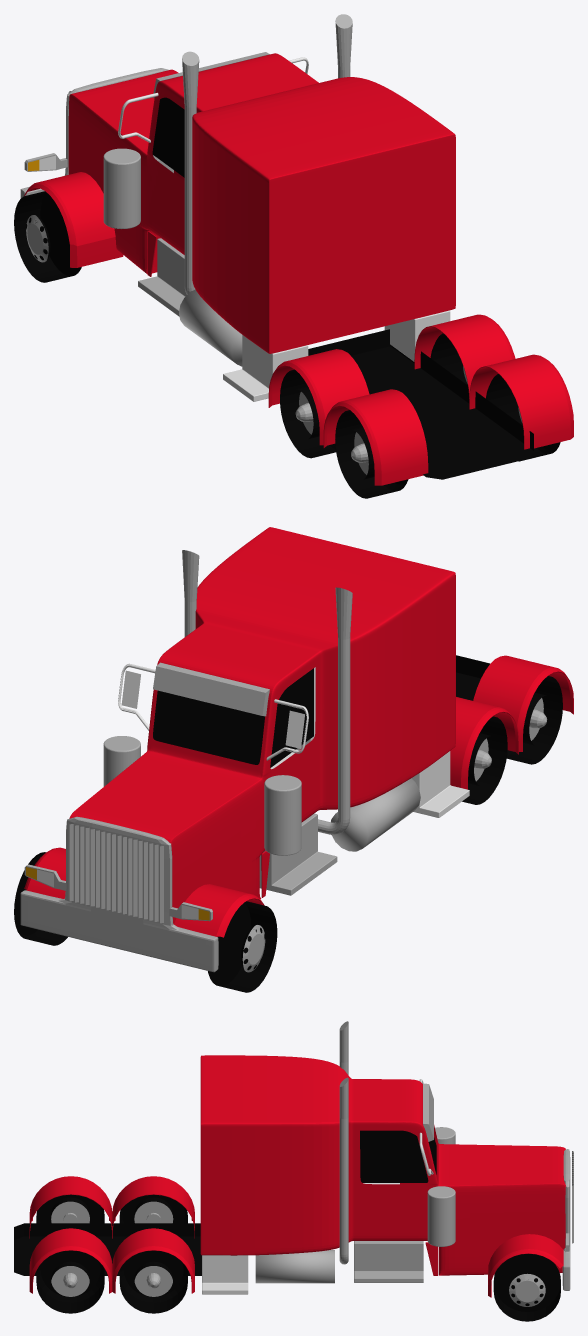
Rendered from oga_peterbilt389_luke1985__tractor_v0.2.glb.
3 views of the same model, one above another, from view 1: azimuth 30°, elevation 25°; view 2: azimuth 150°, elevation 25°; view 3: azimuth 270°, elevation 25° (orthographic). The views are drawn at different scales.
Visible parts, largest first — view 1: Cube, Circle.001, Plane.001, Circle.003, Circle, Circle.002, Cube.002, Cylinder, Plane.006, Cylinder.001, Cube.001, Plane.007 (+2 smaller); view 2: Cube, Plane, Plane.004, Circle.001, Circle.002, Plane.008, Circle.003, Cylinder, Plane.006, Plane.002, Circle, Cylinder.001 (+6 smaller); view 3: Cube, Circle.003, Circle.001, Circle.002, Plane.001, Plane.007, Cube.001, Cylinder.001, Cylinder, Plane.006, Cube.002, Circle (+2 smaller).
Boxes of the visible parts, x1,y1,x2,y2 form: Cube: (68, 53, 455, 353); Circle.001: (268, 314, 573, 485); Plane.001: (308, 329, 533, 479); Circle.003: (280, 333, 560, 498); Circle: (24, 172, 123, 267); Circle.002: (14, 191, 81, 282); Cube.002: (223, 310, 450, 401); Cylinder: (182, 14, 352, 294); Plane.006: (103, 148, 140, 228); Cylinder.001: (179, 289, 242, 366); Cube.001: (138, 238, 186, 316); Plane.007: (152, 97, 184, 177); Cube: (69, 527, 455, 924); Plane: (20, 816, 218, 972); Plane.004: (68, 823, 163, 923); Circle.001: (450, 655, 573, 789); Circle.002: (14, 852, 277, 992); Plane.008: (154, 691, 264, 764); Circle.003: (462, 676, 562, 804); Cylinder: (182, 550, 352, 834); Plane.006: (103, 736, 301, 855); Plane.002: (153, 662, 269, 716); Circle: (24, 847, 264, 937); Cylinder.001: (331, 778, 420, 851); Cube: (200, 1055, 566, 1275); Circle.003: (36, 1194, 187, 1313); Circle.001: (29, 1176, 194, 1293); Circle.002: (493, 1253, 560, 1321); Plane.001: (14, 1223, 201, 1275); Plane.007: (360, 1130, 428, 1182); Cube.001: (354, 1241, 423, 1282); Cylinder.001: (255, 1250, 334, 1283); Cylinder: (339, 1021, 348, 1264); Plane.006: (427, 1127, 455, 1246); Cube.002: (202, 1255, 248, 1294); Circle: (488, 1234, 563, 1297).
Bounding box in the file's own units: 2.59 × 3.43 × 7.53.
